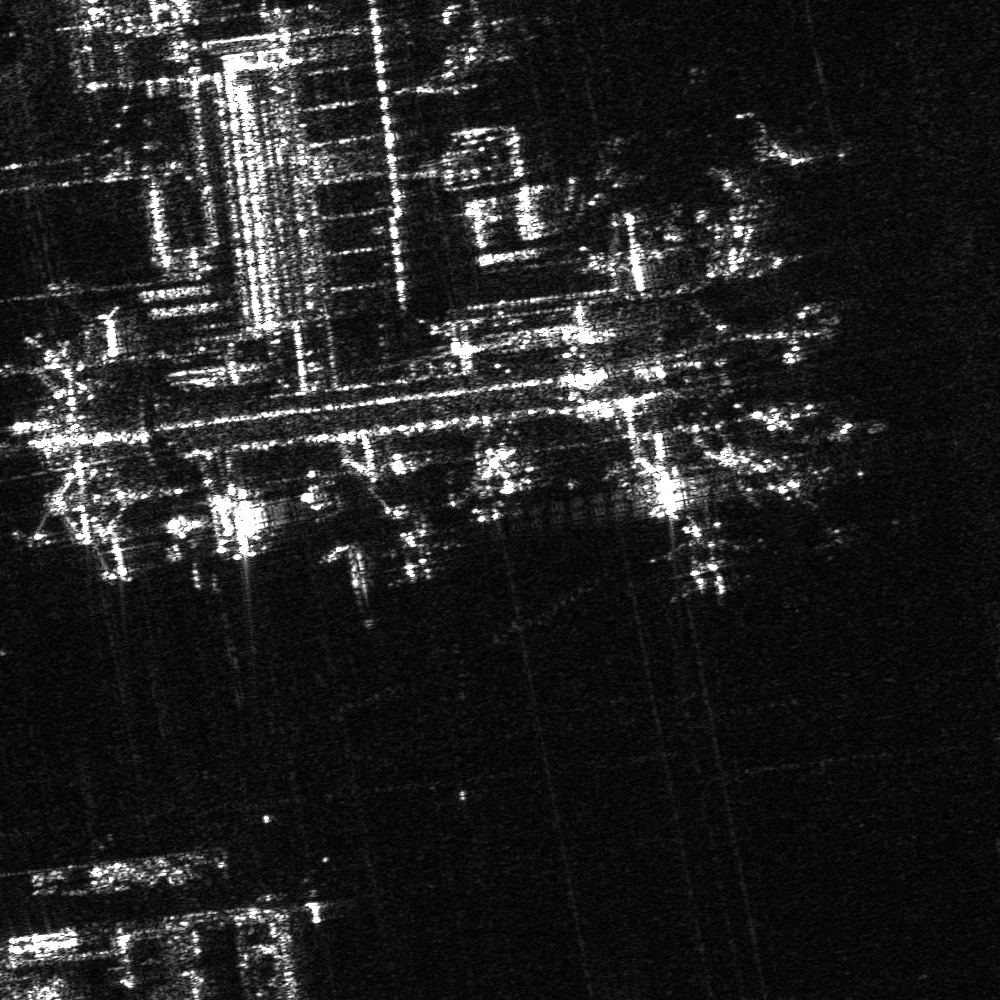Boeing737: (651, 513, 754, 601)
